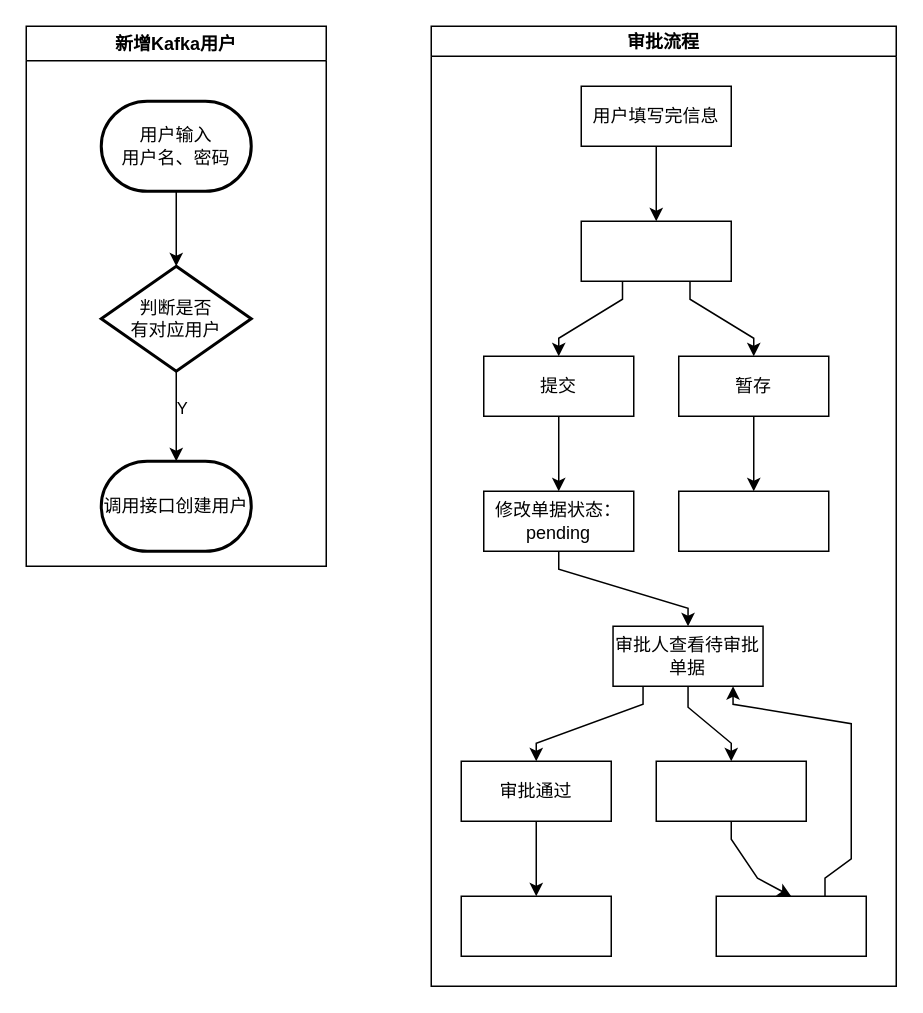
Image size: 923x1013. Some labels were removed from this diagram. The centre of each missing label's shape, as x and y in pixels:
"创建审批单据、审批记录" goes at point (655, 250).
"创建并修改单据状态：draft" goes at point (753, 520).
"审批通过调起创建方法" goes at point (535, 925).
"审批驳回" goes at point (730, 790).
"驳回的单据可以重新提交审批" goes at point (790, 925).
